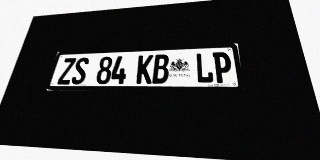4: (110, 56, 128, 84)
8: (95, 56, 114, 84)
B: (152, 54, 169, 84)
K: (136, 55, 153, 84)
L: (195, 52, 214, 83)
P: (212, 52, 233, 83)
S: (70, 57, 90, 84)
Z: (57, 58, 76, 84)
